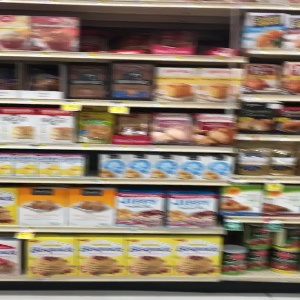void: (79, 6, 149, 55)
